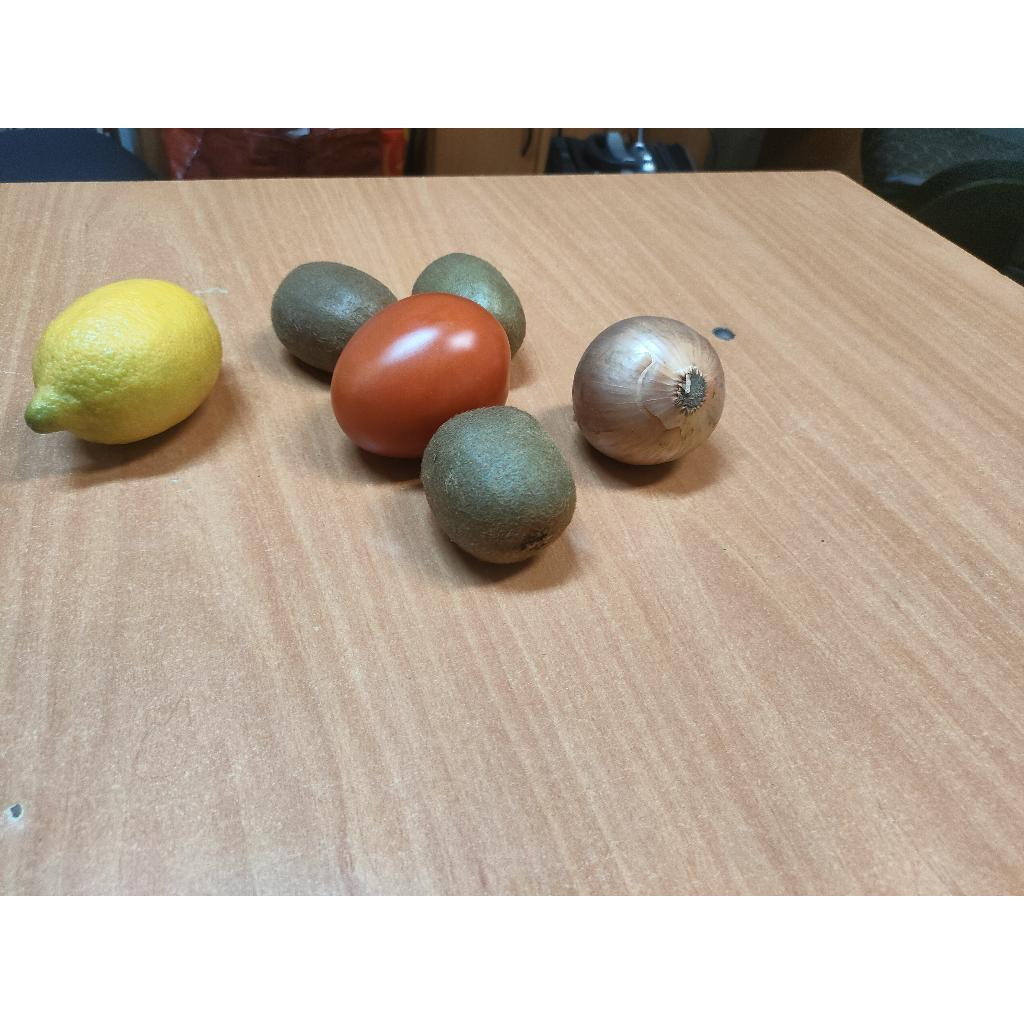kiwi: (422, 406, 576, 564), (272, 262, 396, 372), (412, 252, 526, 356)
lemon: (24, 280, 222, 444)
tomato: (332, 292, 510, 458), (572, 316, 726, 464)
